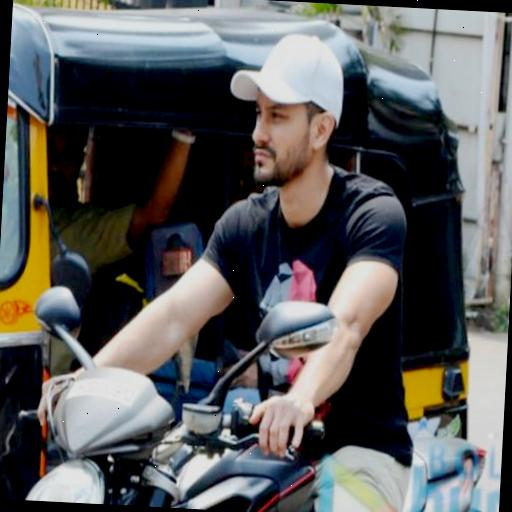no helmet: (115, 11, 470, 512)
